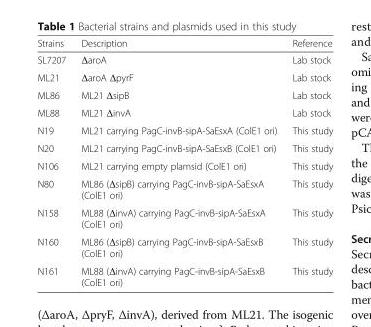table: (36, 37, 332, 287)
table column: (72, 37, 284, 287), (284, 37, 332, 287), (36, 37, 72, 287)
table column header: (36, 37, 332, 50)
table row: (36, 174, 332, 203), (36, 203, 332, 232), (36, 232, 332, 261), (36, 261, 332, 287), (36, 50, 332, 68), (36, 85, 332, 103), (36, 103, 332, 121), (36, 121, 332, 139), (36, 156, 332, 174), (36, 68, 332, 85), (36, 139, 332, 156), (36, 37, 332, 50)
